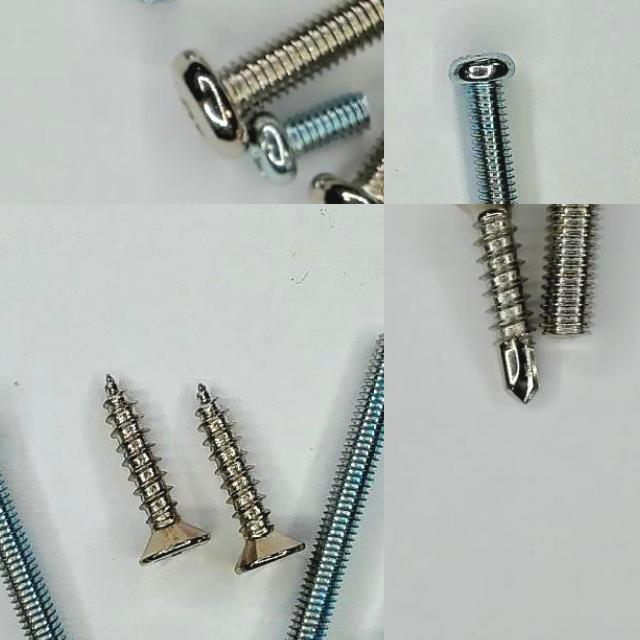Screw: (175, 0, 384, 154), (288, 336, 384, 640), (196, 384, 306, 574), (103, 374, 211, 565), (455, 204, 539, 403), (249, 95, 371, 183), (0, 479, 65, 640), (451, 55, 518, 204), (541, 204, 600, 335)
